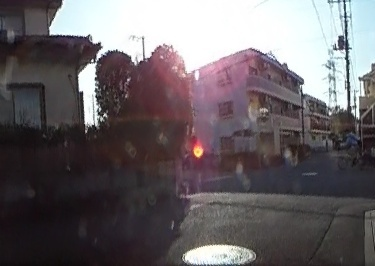person: (341, 126, 361, 167)
